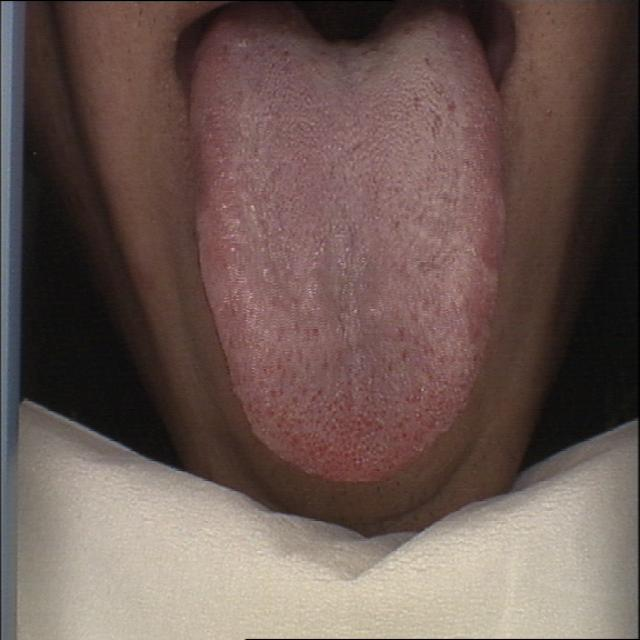tongue: (188, 7, 514, 486)
